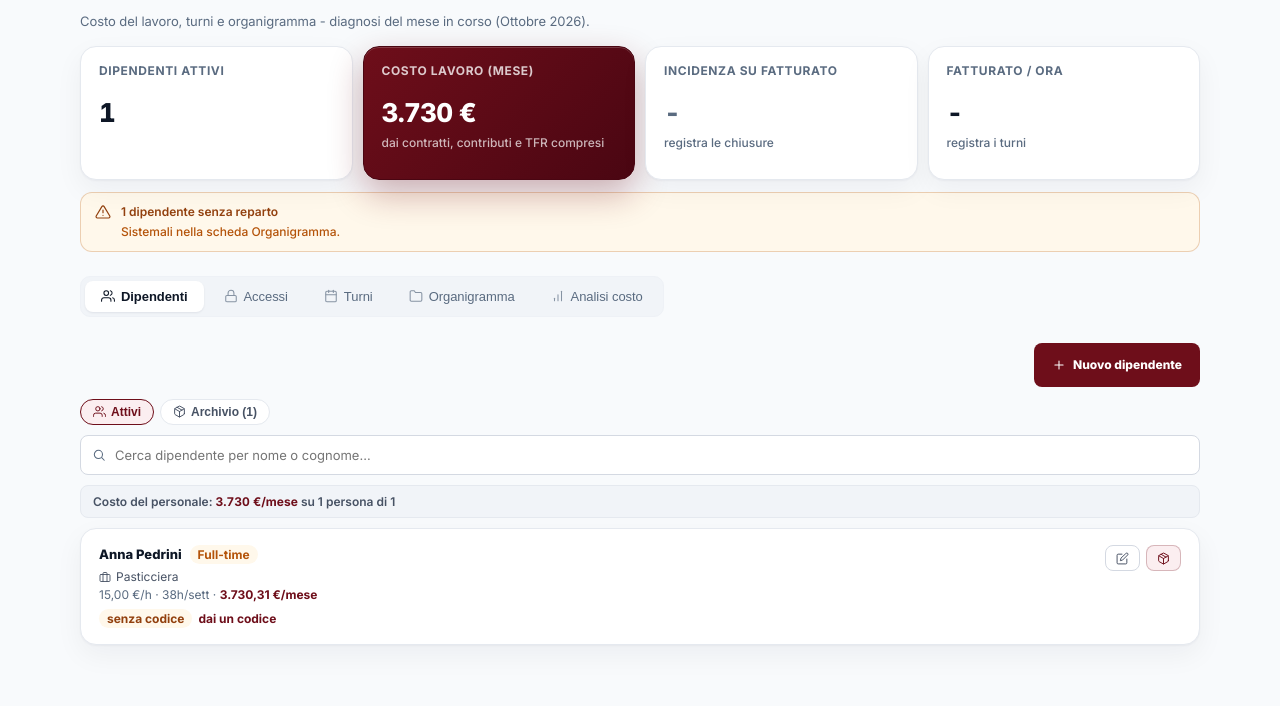
it: Aprire e chiudere la sezione › «Nuovo dipendente» apre il modulo
The image size is (1280, 706).
What coordinates should you click on to do the following:
click the button "Nuovo dipendente"
I would click on:
 (1117, 364)
Its box is [1034,342,1200,386].
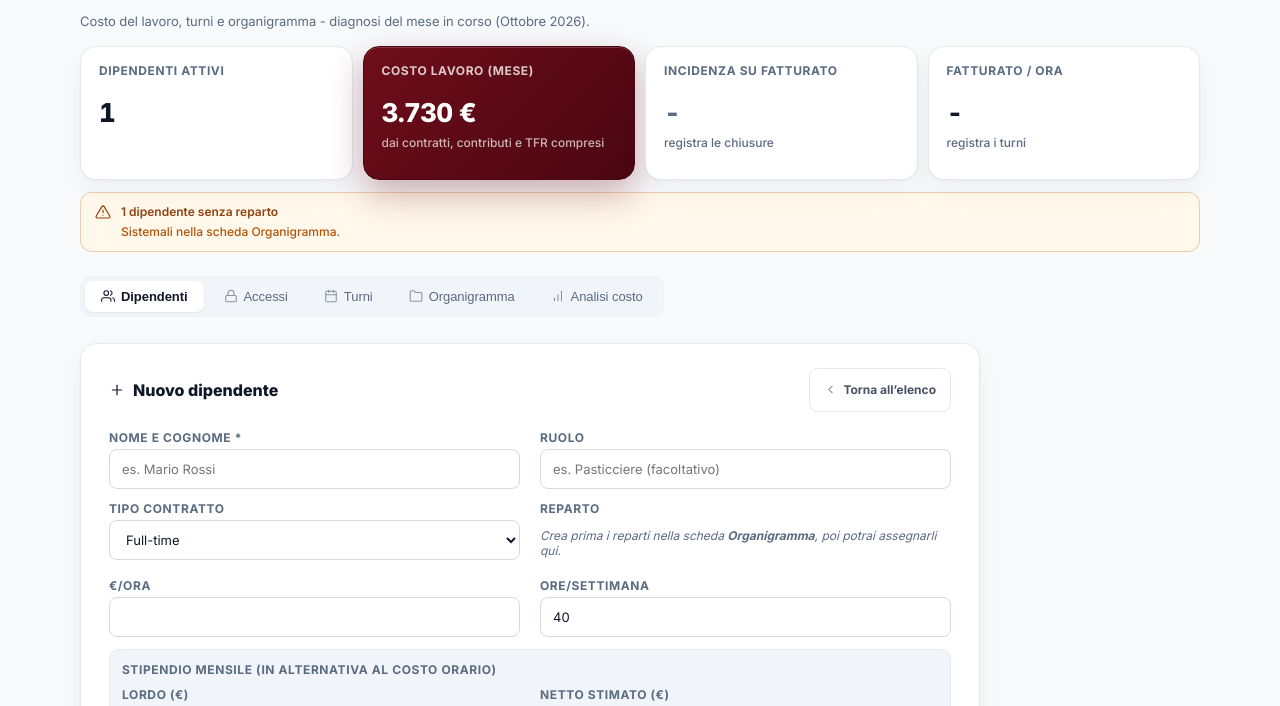
Now the field with placeholder "es. Mario Rossi" is shown, box [109,448,520,488]
